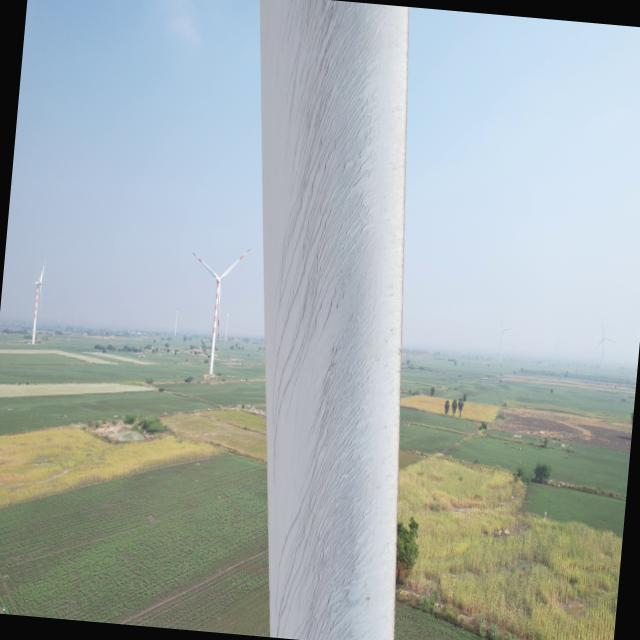Dirt: (259, 0, 405, 639)
